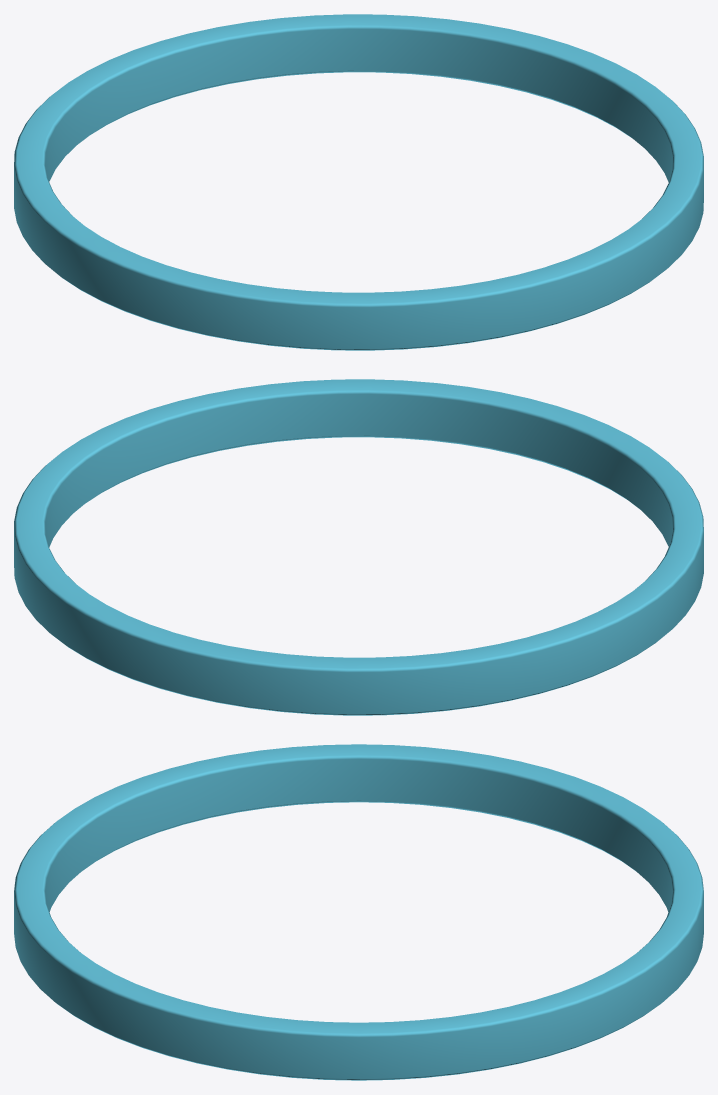
3 renders of one model, top to bottom at view 1: azimuth 30°, elevation 25°; view 2: azimuth 150°, elevation 25°; view 3: azimuth 270°, elevation 25°, orthographic.
Visible parts, largest first — view 1: seal_body; view 2: seal_body; view 3: seal_body.
Boxes of the visible parts, bbox=[...] form: seal_body: bbox=[14, 14, 703, 350]; seal_body: bbox=[14, 379, 703, 715]; seal_body: bbox=[14, 744, 703, 1080].
Size of the model in its own units: 0.2095 by 0.0159 by 0.2095.
